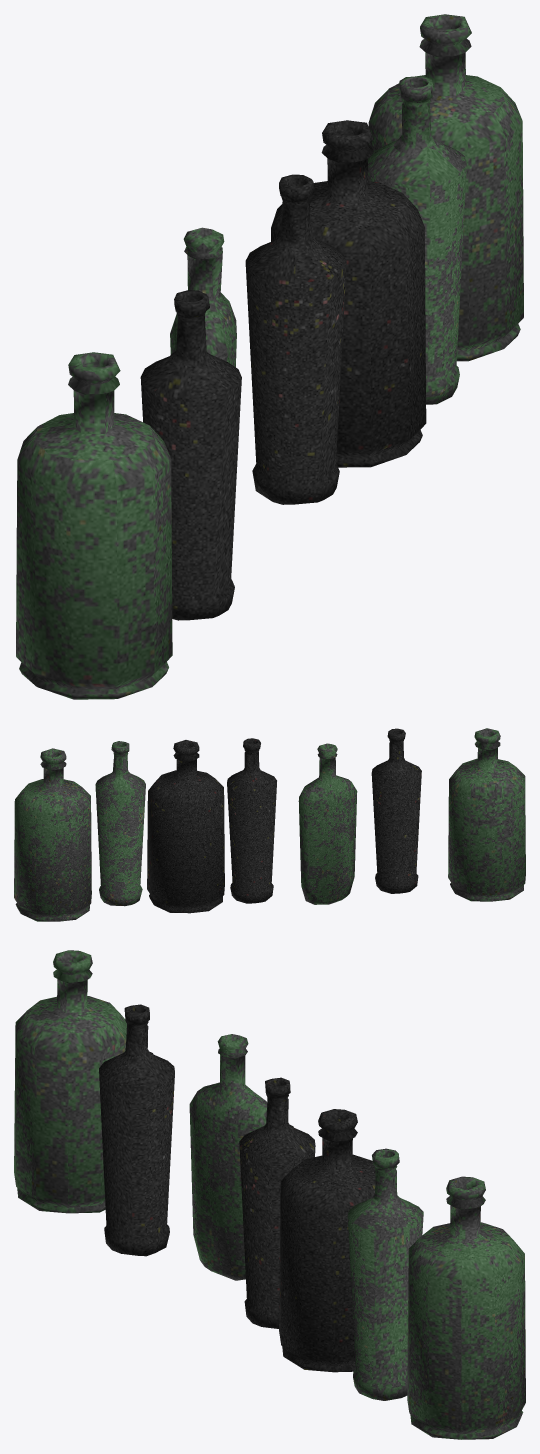
The model's file is Bottles_BackgroundExtra.fbx.
The picture shows the model from 3 angles, top to bottom: view 1: azimuth 30°, elevation 25°; view 2: azimuth 150°, elevation 25°; view 3: azimuth 270°, elevation 25°; orthographic projection. The views are drawn at different scales.
Parts seen in each view (by area): view 1: BottleSet; view 2: BottleSet; view 3: BottleSet.
Part boxes in pixels (bbox=[...]): BottleSet: bbox=[16, 14, 523, 699]; BottleSet: bbox=[14, 728, 525, 921]; BottleSet: bbox=[14, 950, 525, 1439].
Bounding box in the file's own units: 79.47 × 31.8 × 62.14.
Materials: 1 (1 with a texture image).
